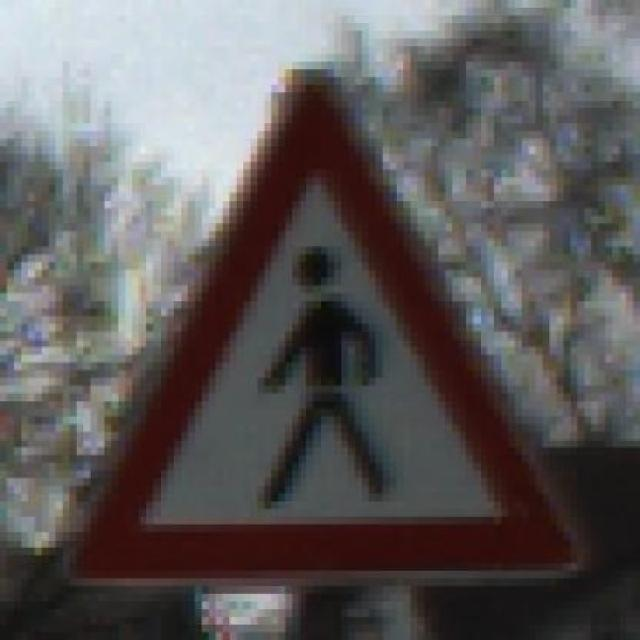Pedestrian Crossing: (48, 69, 584, 586)
